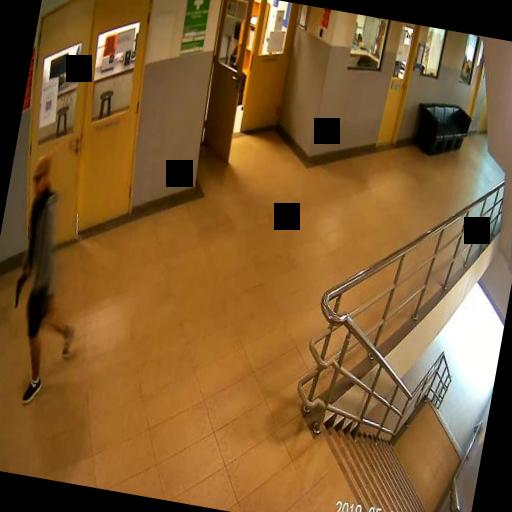Handgun: (11, 270, 27, 307)
